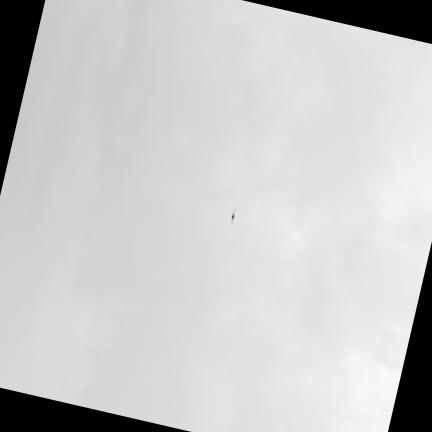Shahed: (229, 205, 236, 226)
